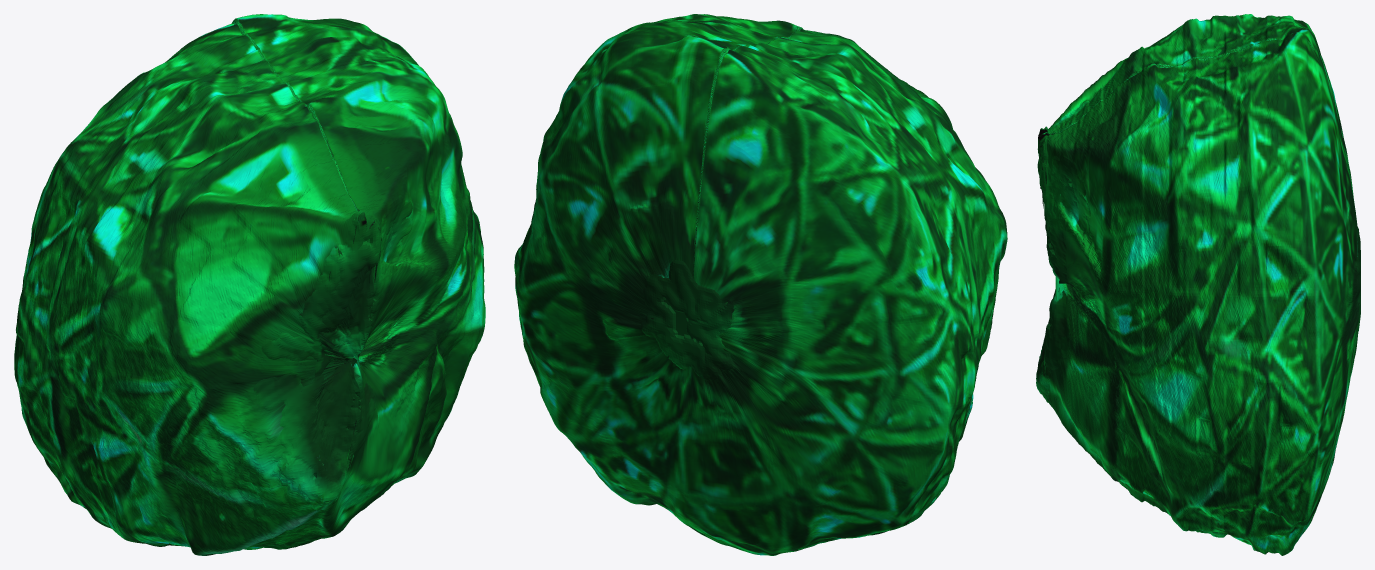
Rendered from volume2_mesh.glb.
The picture shows the model from 3 angles, left to right: view 1: azimuth 30°, elevation 25°; view 2: azimuth 150°, elevation 25°; view 3: azimuth 270°, elevation 25°; orthographic projection.
Parts seen in each view (by area): view 1: ipn, fill; view 2: ipn, fill; view 3: ipn, fill.
Part boxes in pixels (x1,y1,x2,y2): ipn: [14, 14, 485, 555]; fill: [253, 194, 412, 505]; ipn: [514, 14, 1007, 555]; fill: [640, 260, 734, 380]; ipn: [1039, 14, 1359, 555]; fill: [1036, 130, 1360, 399].
Bounding box in the file's own units: 1.75 × 1.87 × 1.12.
2 materials, 1 textured.
